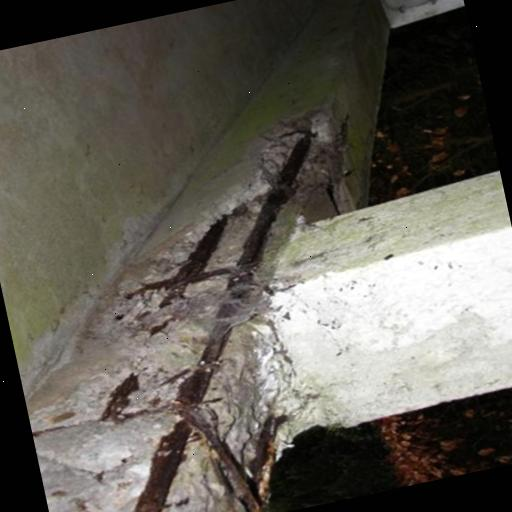spalling: (39, 117, 356, 512)
